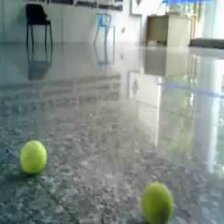tennis: (141, 182, 171, 224), (21, 139, 47, 174)
